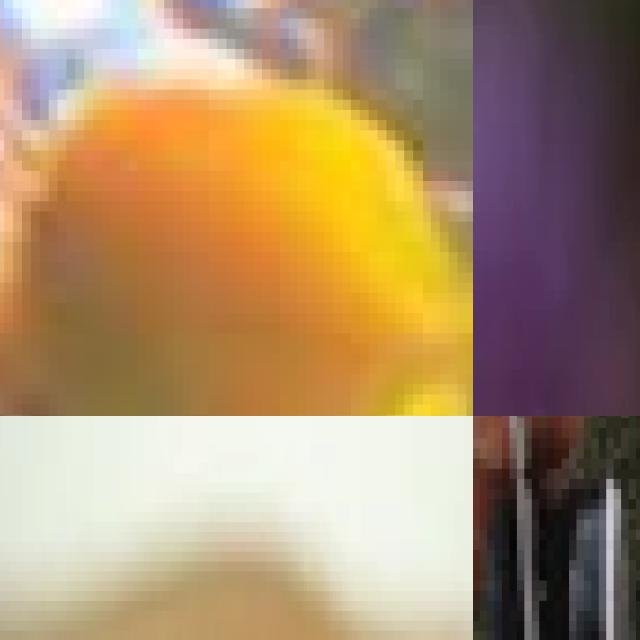fish: (0, 0, 473, 416), (473, 0, 640, 416), (0, 416, 339, 611)
